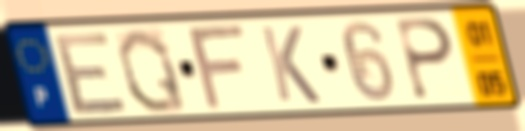6: (338, 18, 399, 106)
E: (52, 28, 132, 118)
F: (185, 21, 250, 114)
K: (257, 24, 325, 107)
P: (393, 16, 458, 104)
Q: (114, 25, 191, 117)
